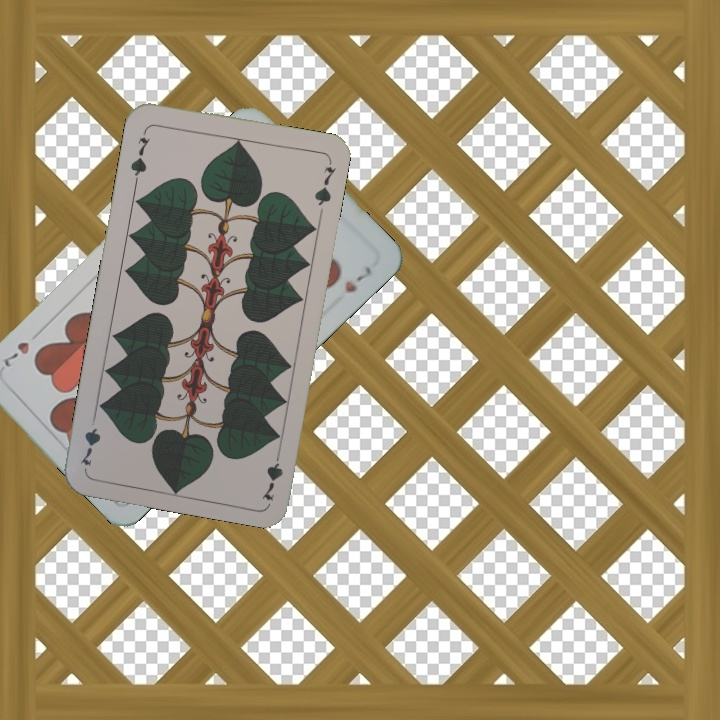G7: (257, 444, 286, 503), (126, 126, 152, 185)
